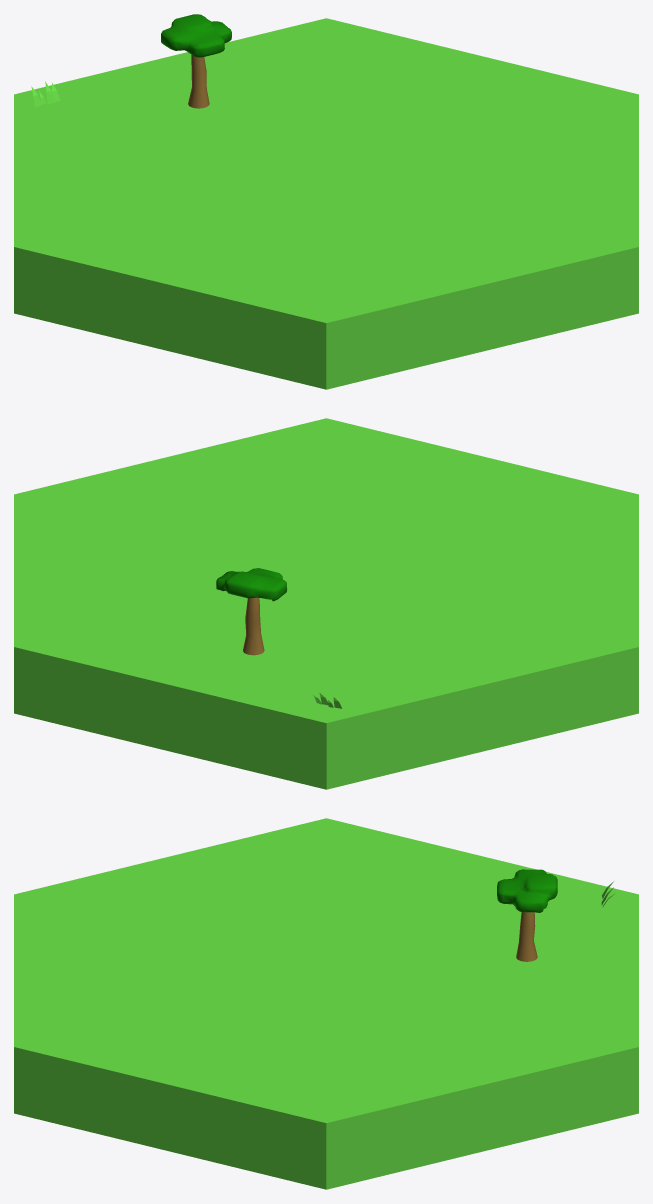
File: grass_tile.glb
3 views of the same model, one above another, from view 1: azimuth 30°, elevation 25°; view 2: azimuth 150°, elevation 25°; view 3: azimuth 270°, elevation 25° (orthographic).
Parts seen in each view (by area): view 1: grass, Forest; view 2: grass, Forest; view 3: grass, Forest.
Part boxes in pixels (x1,y1,x2,y2): grass: [14, 18, 638, 389]; Forest: [161, 14, 231, 108]; grass: [14, 418, 638, 789]; Forest: [216, 568, 287, 655]; grass: [14, 818, 638, 1189]; Forest: [497, 869, 557, 961].
Size of the model in its own units: 2 by 0.4423 by 1.73.
